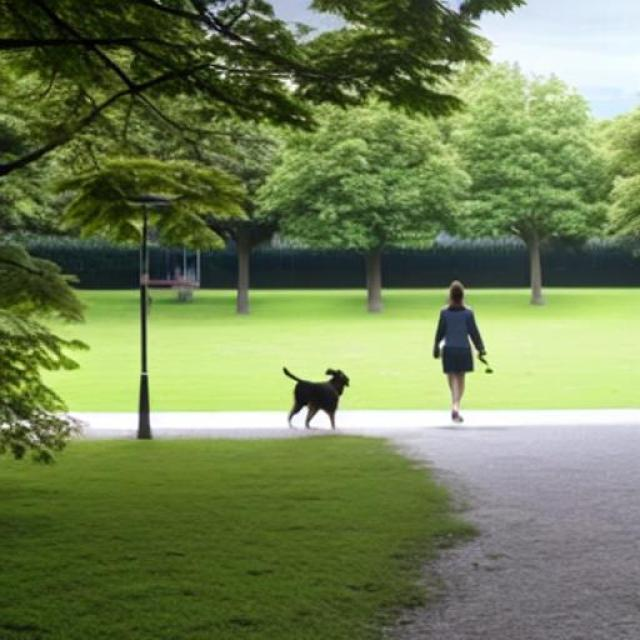Unleashed_Dog: (282, 347, 474, 429)
